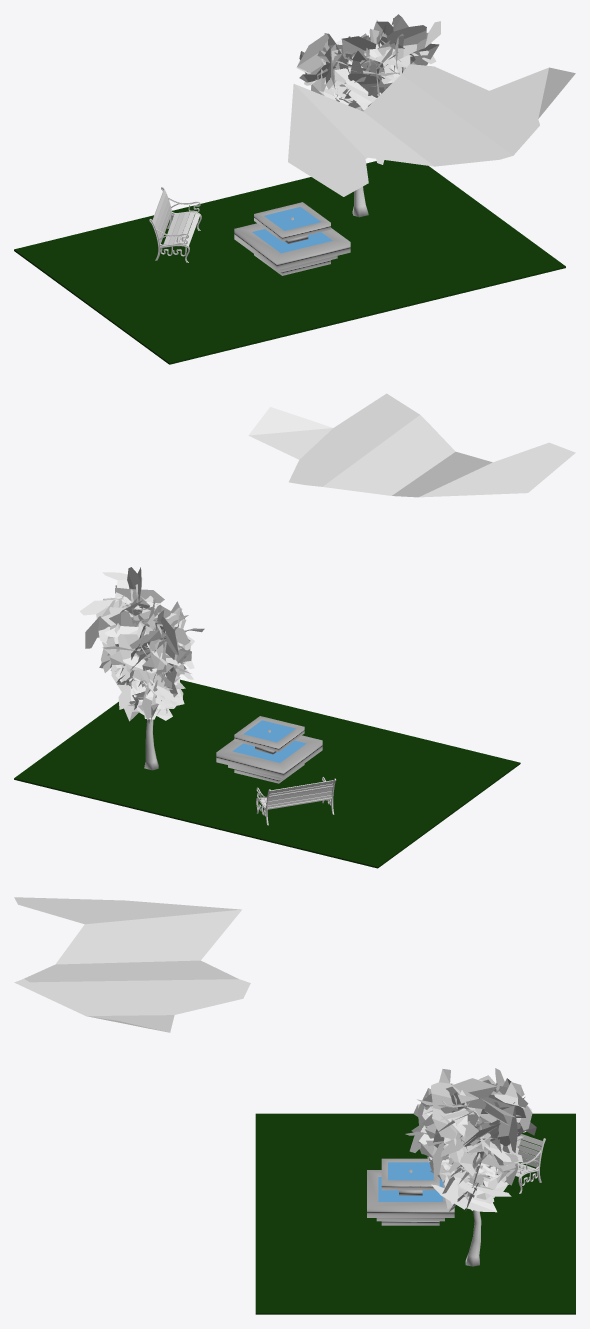
Rendered from outsideEnvironment.fbx.
3 views of the same model, one above another, from view 1: azimuth 30°, elevation 25°; view 2: azimuth 150°, elevation 25°; view 3: azimuth 270°, elevation 25° (orthographic). The views are drawn at different scales.
Visible parts, largest first — view 1: Grass, Tree Branch, Fountain, Woods, Tree Stump|Tree Branch|Dupli|78, Steel, Tree Stump|Tree Branch|Dupli|108, Tree Stump|Tree Branch|Dupli|65, Tree Stump|Tree Branch|Dupli|173, Tree Stump|Tree Branch|Dupli|51; view 2: Grass, Tree Branch, Fountain, Woods, Steel, Tree Stump|Tree Branch|Dupli|93, Tree Stump|Tree Branch|Dupli|16; view 3: Grass, Tree Branch, Fountain, Tree Stump|Tree Branch|Dupli|78, Woods, Tree Stump|Tree Branch|Dupli|93, Tree Stump, Tree Stump|Tree Branch|Dupli|51.
Boxes of the visible parts, x1,y1,x2,y2 form: Grass: [14, 160, 565, 364]; Tree Branch: [288, 64, 575, 196]; Fountain: [234, 202, 350, 275]; Woods: [152, 190, 199, 245]; Tree Stump|Tree Branch|Dupli|78: [387, 17, 439, 65]; Steel: [149, 187, 201, 262]; Tree Stump|Tree Branch|Dupli|108: [297, 33, 328, 88]; Tree Stump|Tree Branch|Dupli|65: [382, 21, 440, 59]; Tree Stump|Tree Branch|Dupli|173: [345, 60, 379, 97]; Tree Stump|Tree Branch|Dupli|51: [341, 36, 375, 54]; Grass: [14, 679, 520, 868]; Tree Branch: [248, 393, 575, 497]; Fountain: [216, 716, 322, 783]; Woods: [261, 780, 333, 807]; Steel: [256, 777, 336, 825]; Tree Stump|Tree Branch|Dupli|93: [85, 611, 144, 648]; Tree Stump|Tree Branch|Dupli|16: [109, 622, 154, 670]; Grass: [255, 1113, 575, 1314]; Tree Branch: [14, 897, 250, 1032]; Fountain: [367, 1158, 454, 1225]; Tree Stump|Tree Branch|Dupli|78: [431, 1069, 460, 1139]; Woods: [515, 1134, 542, 1177]; Tree Stump|Tree Branch|Dupli|93: [488, 1094, 517, 1152]; Tree Stump: [443, 1101, 481, 1266]; Tree Stump|Tree Branch|Dupli|51: [452, 1078, 496, 1098].
Size of the model in its own units: 920 by 574 by 1097.
